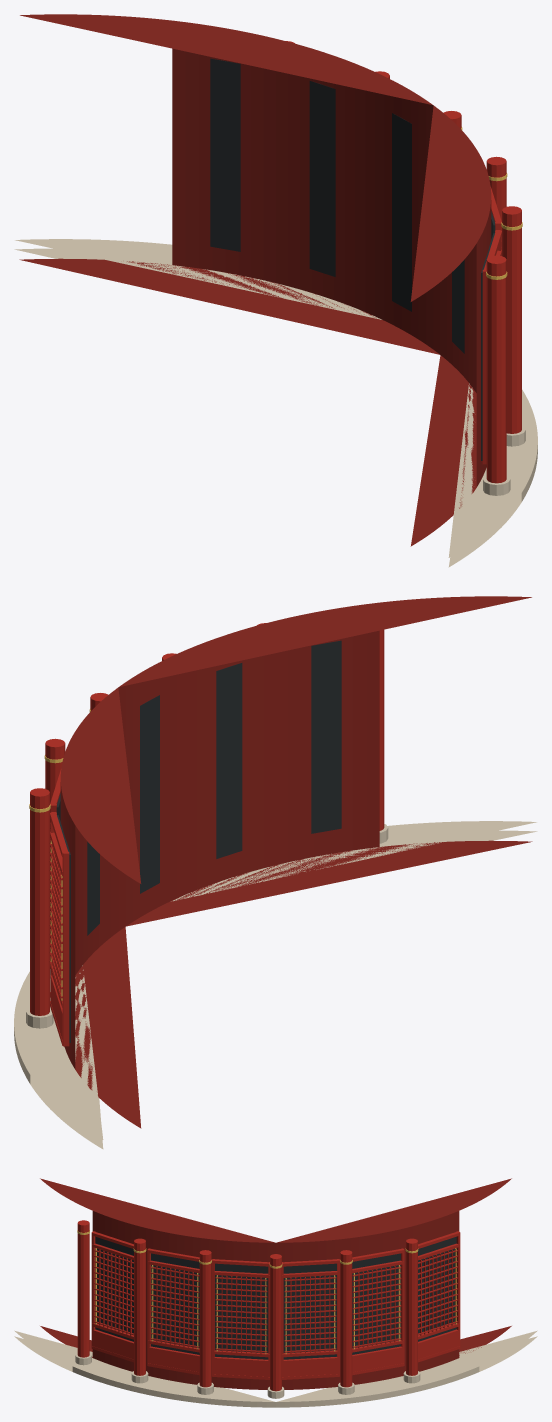
The model's file is SM_21_Wall_1.fbx.
The picture shows the model from 3 angles, top to bottom: view 1: azimuth 30°, elevation 25°; view 2: azimuth 150°, elevation 25°; view 3: azimuth 270°, elevation 25°; orthographic projection. The views are drawn at different scales.
Visible parts, largest first — view 1: Wall_1; view 2: Wall_1; view 3: Wall_1.
Part boxes in pixels (left/top/right/bottom): Wall_1: left=14, top=14, right=537, bottom=567; Wall_1: left=14, top=596, right=537, bottom=1149; Wall_1: left=14, top=1178, right=537, bottom=1407.
Size of the model in its own units: 866 by 2514 by 810.
